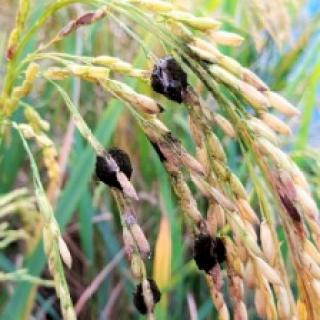Gosong-Palsu: (86, 137, 138, 201), (191, 228, 228, 275), (151, 56, 187, 101), (128, 278, 163, 320)
